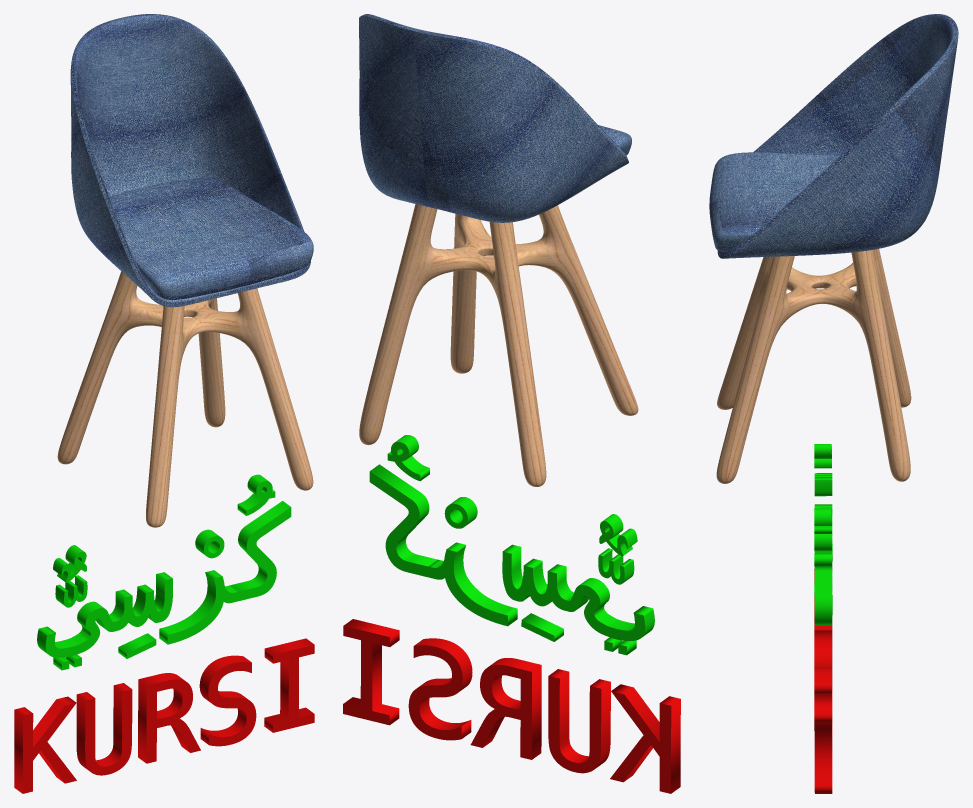
The model's file is Modern Chair of mine1.fbx.
3 views of the same model, side by side, from view 1: azimuth 30°, elevation 25°; view 2: azimuth 150°, elevation 25°; view 3: azimuth 270°, elevation 25° (orthographic). The views are drawn at different scales.
Parts seen in each view (by area): view 1: Cube, Cube.002, Cube.003, Text.006, Text, Text.002, Text.004, Text.005, Text.003, Text.001; view 2: Cube, Cube.002, Text.006, Text, Text.002, Text.004, Text.005, Text.003, Text.001; view 3: Cube, Cube.002, Cube.003, Text.006, Text, Text.002, Text.004.
Boxes of the visible parts, box(x1,y1,x2,y2) form: Cube: box(70, 14, 310, 307); Cube.002: box(57, 271, 313, 527); Cube.003: box(109, 178, 313, 299); Text.006: box(14, 638, 314, 793); Text: box(37, 501, 291, 670); Text.002: box(237, 474, 275, 515); Text.004: box(53, 545, 86, 582); Text.005: box(55, 575, 87, 607); Text.003: box(195, 529, 224, 558); Text.001: box(118, 633, 156, 658); Cube: box(359, 14, 628, 222); Cube.002: box(359, 204, 638, 486); Text.006: box(343, 619, 680, 793); Text: box(369, 464, 654, 655); Text.002: box(387, 435, 429, 481); Text.004: box(599, 514, 637, 556); Text.005: box(598, 548, 634, 584); Text.003: box(444, 497, 477, 528); Text.001: box(521, 613, 563, 641); Cube: box(717, 14, 958, 258); Cube.002: box(716, 249, 911, 483); Cube.003: box(709, 152, 839, 250); Text.006: box(814, 569, 832, 793); Text: box(814, 504, 832, 625); Text.002: box(814, 507, 831, 533); Text.004: box(814, 444, 831, 468).
Size of the model in its own units: 392 by 881 by 284.
